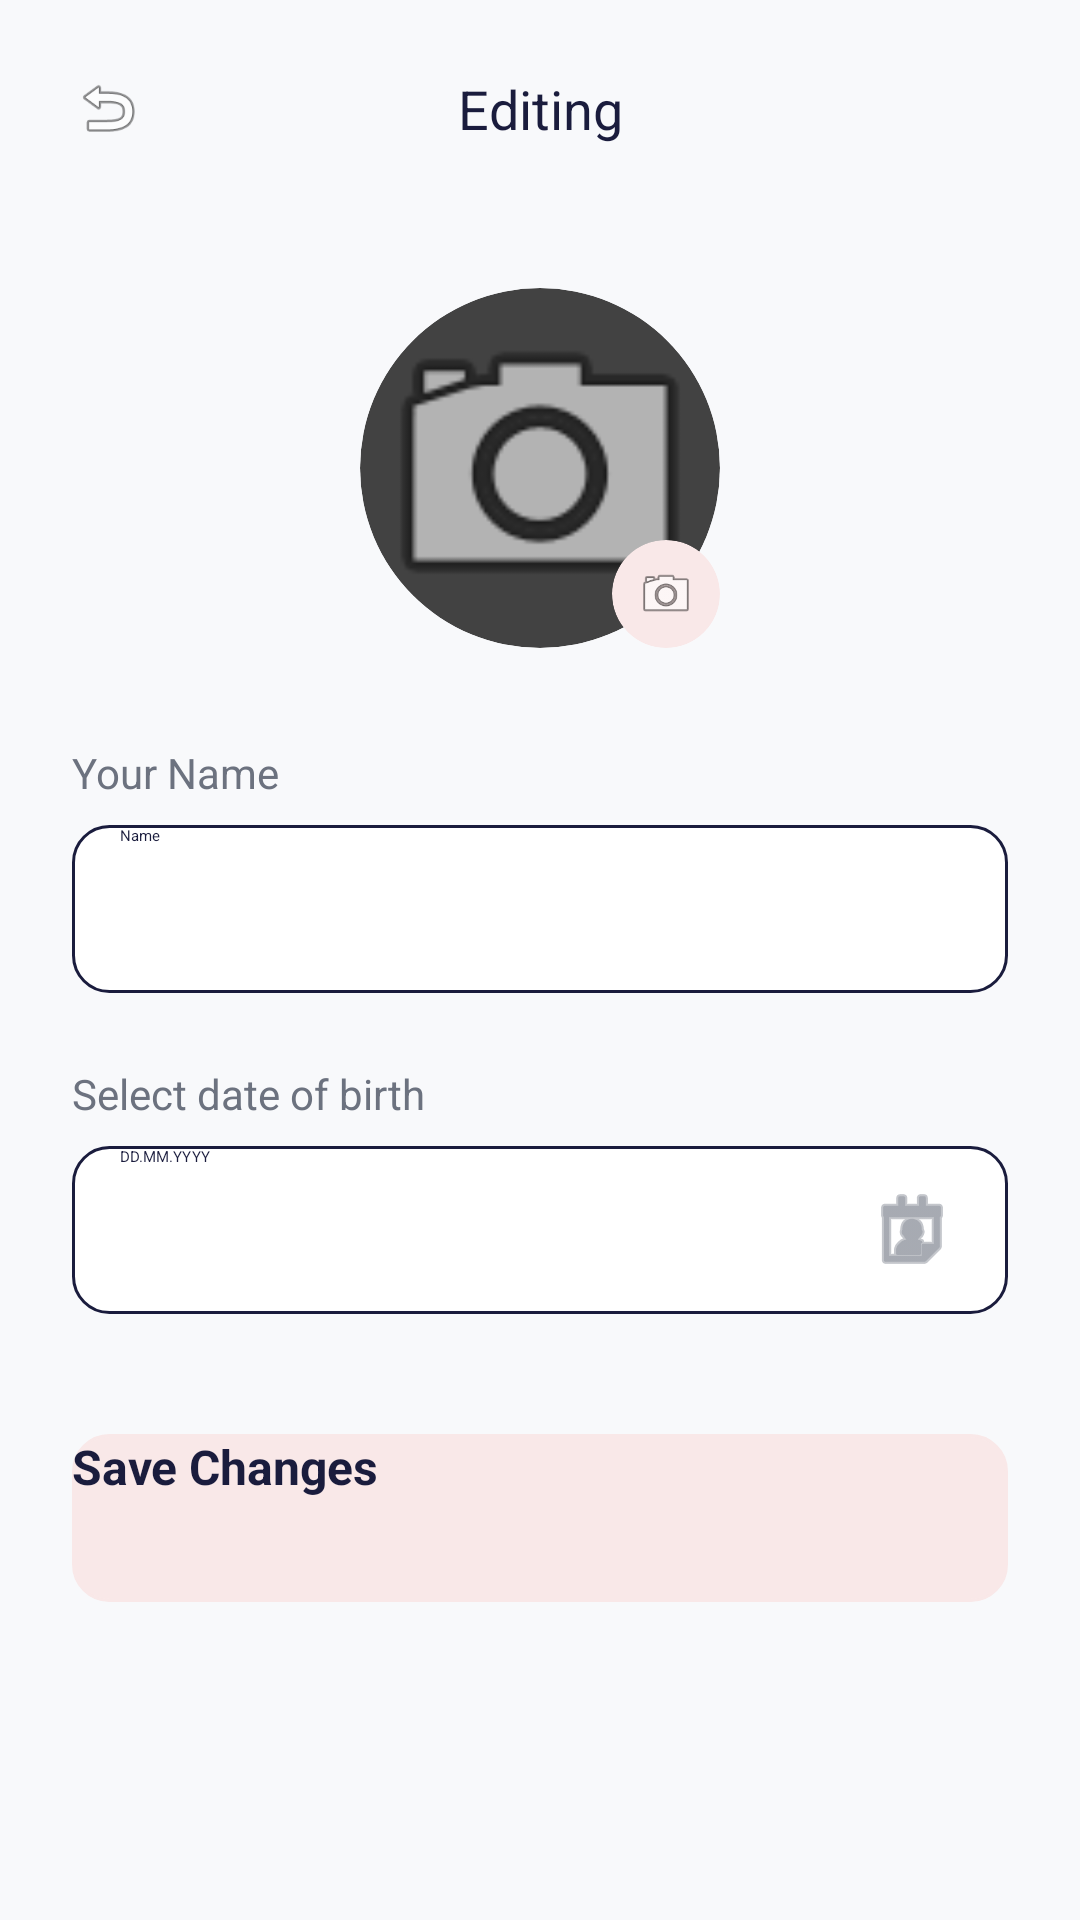

Icon click points for this 1080×1920 phone screenshot, format (x=x, y=y):
revert: (x=109, y=108)
